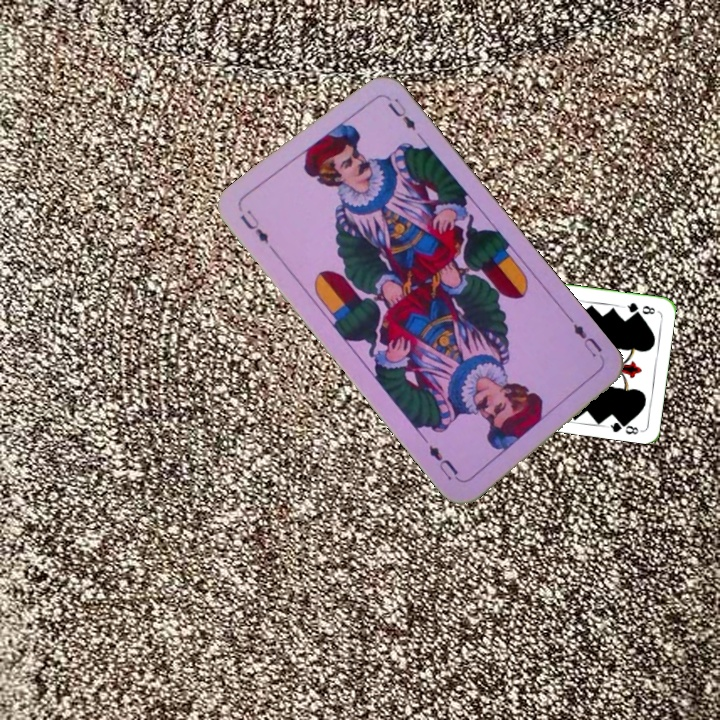EU: (565, 314, 605, 360), (236, 205, 272, 246)
G8: (619, 298, 658, 317)
